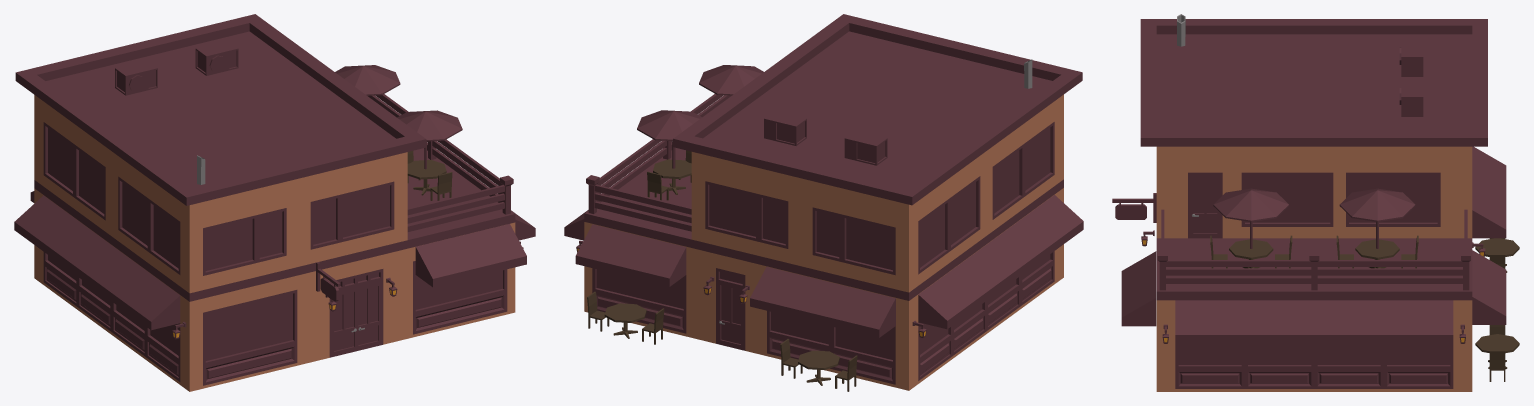
File: building-restaurant.fbx
3 renders of one model, left to right at view 1: azimuth 30°, elevation 25°; view 2: azimuth 150°, elevation 25°; view 3: azimuth 270°, elevation 25°, orthographic.
Visible parts, largest first — view 1: building-restaurant; view 2: building-restaurant; view 3: building-restaurant.
Boxes of the visible parts, x1,y1,x2,y2 form: building-restaurant: [14, 14, 535, 391]; building-restaurant: [564, 14, 1083, 391]; building-restaurant: [1112, 14, 1519, 391].
Bounding box in the file's own units: 14.28 × 7.9 × 12.9.
